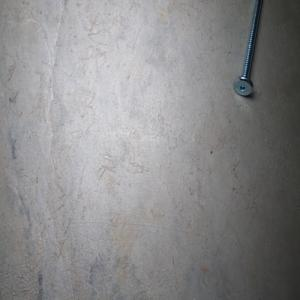Bolt: (232, 0, 262, 96)
